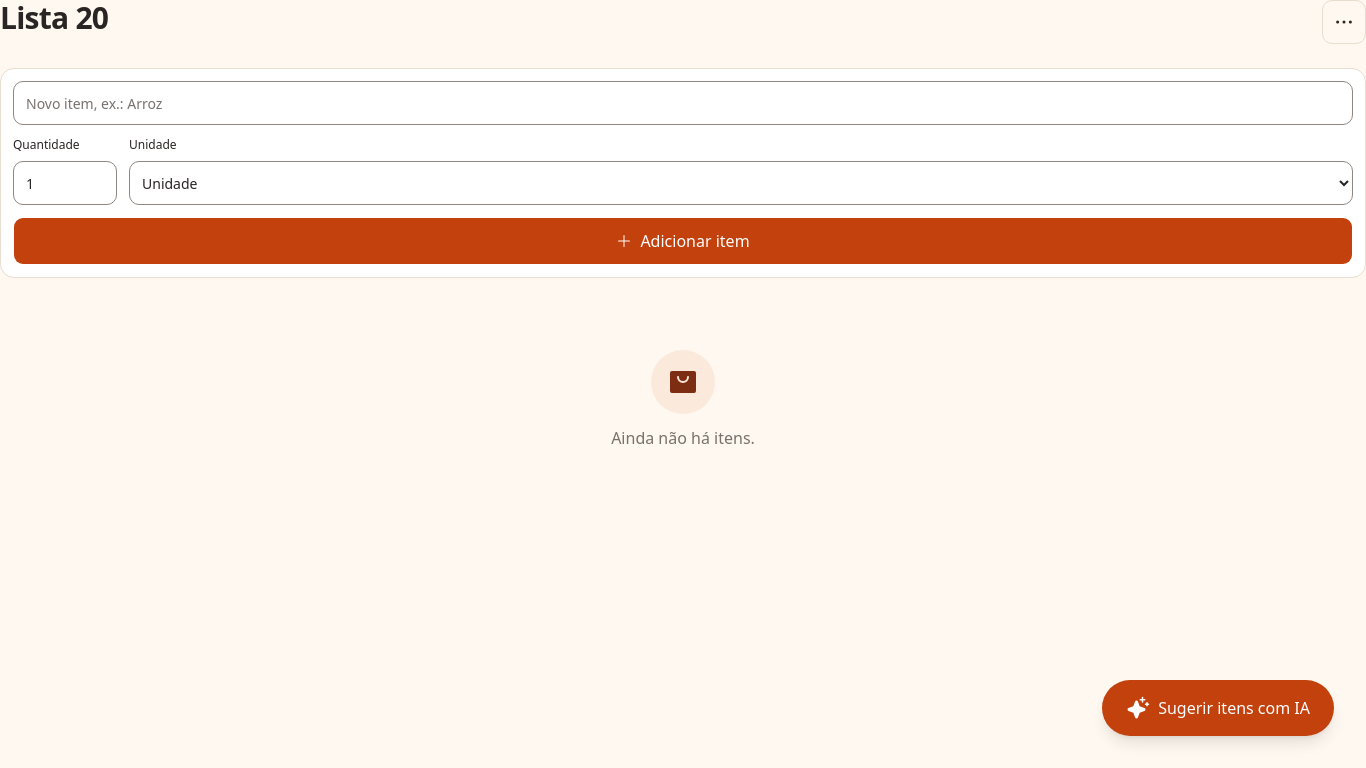
Test: ShopperListDetailView › opens the AI chat from the floating button on an open list
Click the button "Sugerir itens com IA" at point(1218, 708), box [1102,680,1334,736]
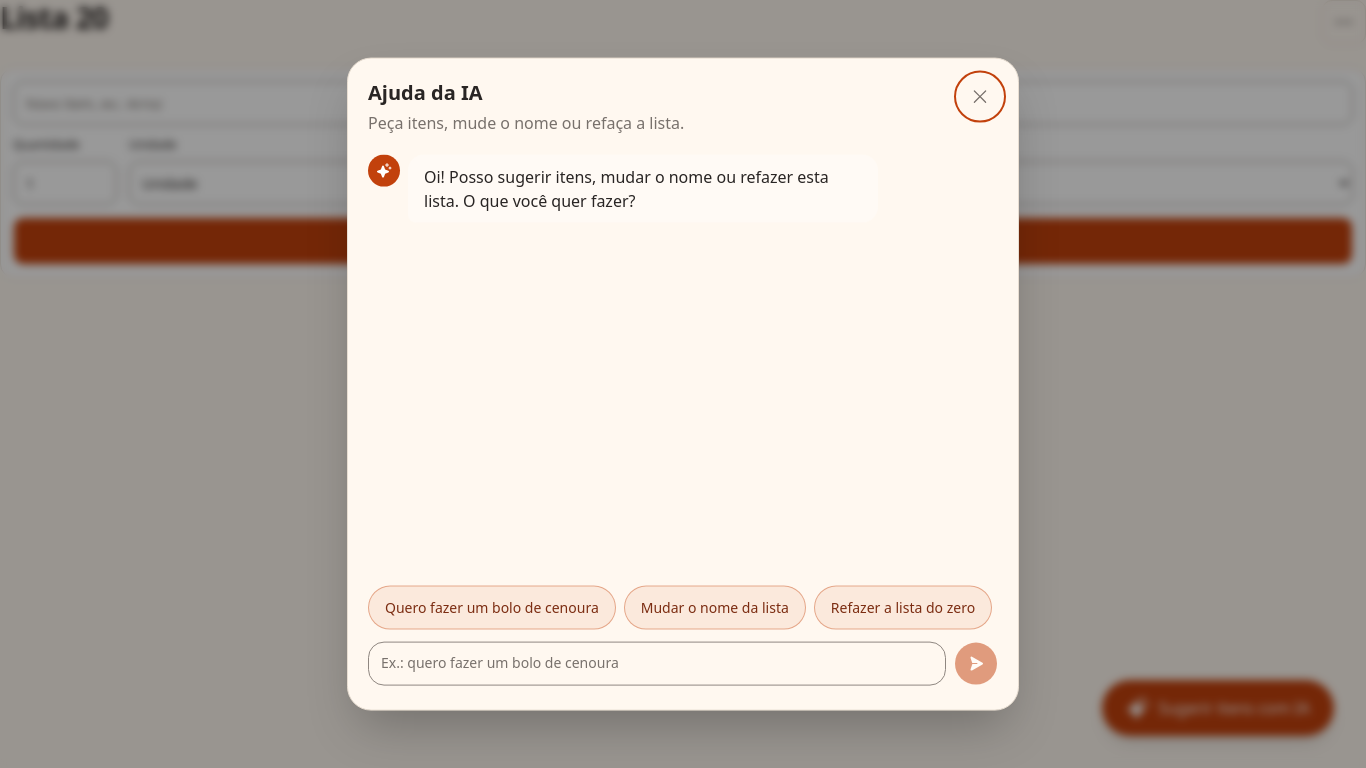
Expected: the text box named "Mensagem para a IA" is shown, [368,641,946,685]
Click the button named "Fechar" at point(980, 97), box [958,75,1002,119]
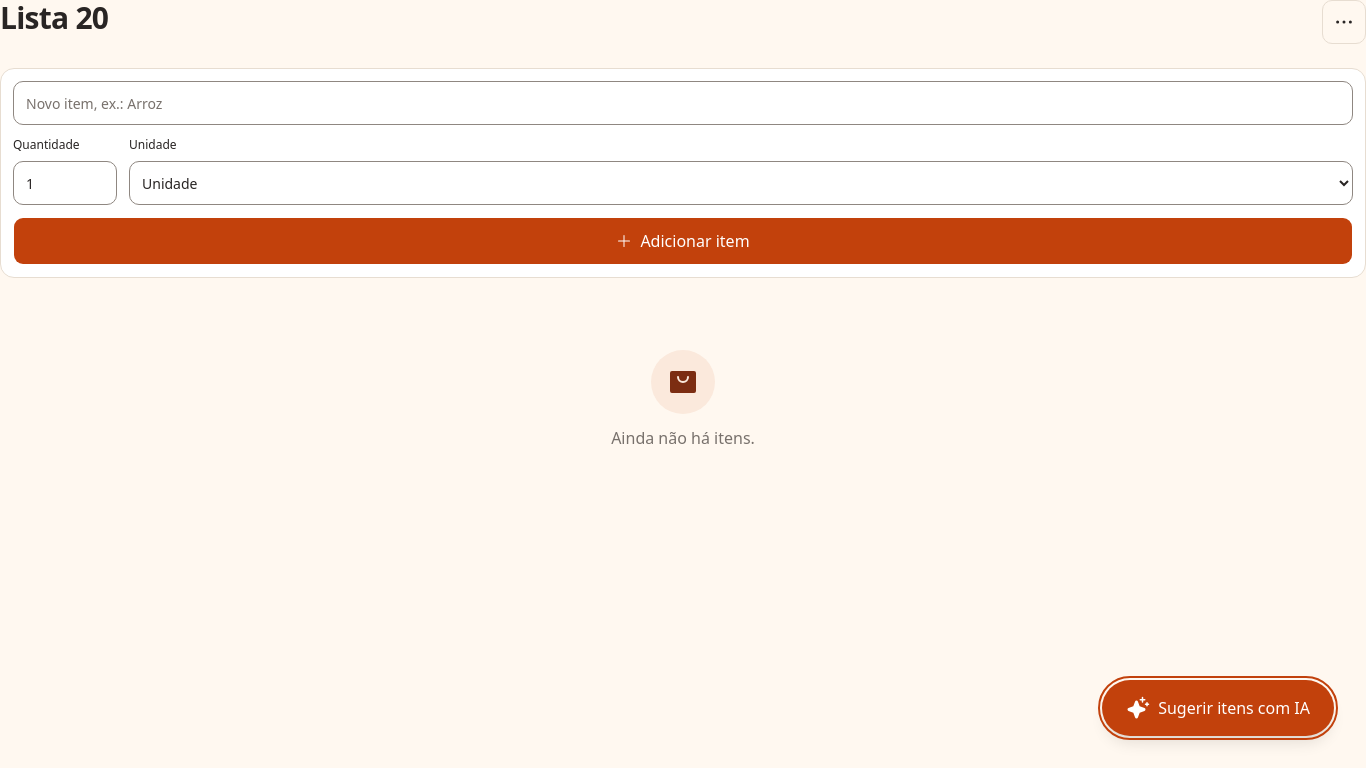
Expected: the dialog is gone
